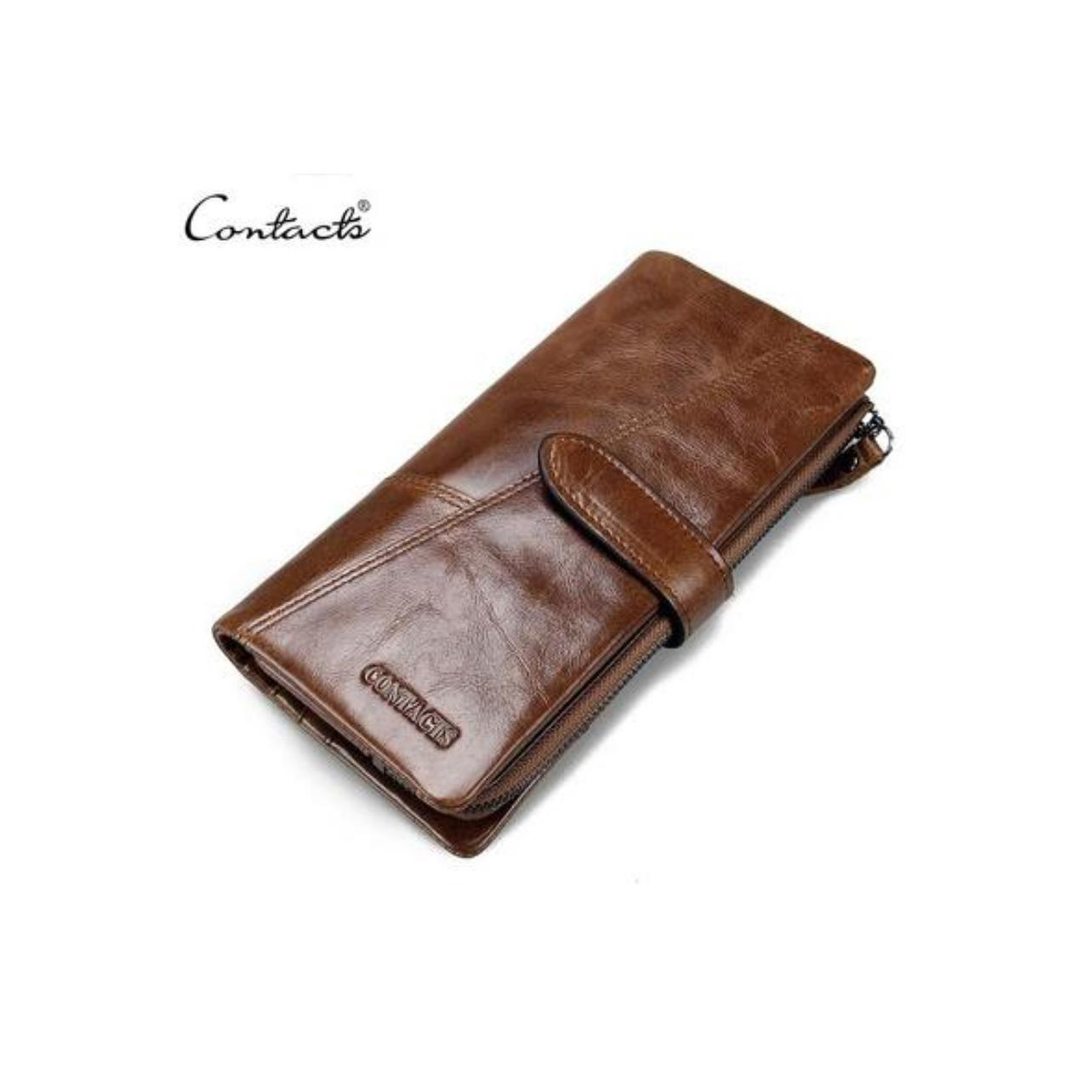wallet: (182, 254, 922, 815)
